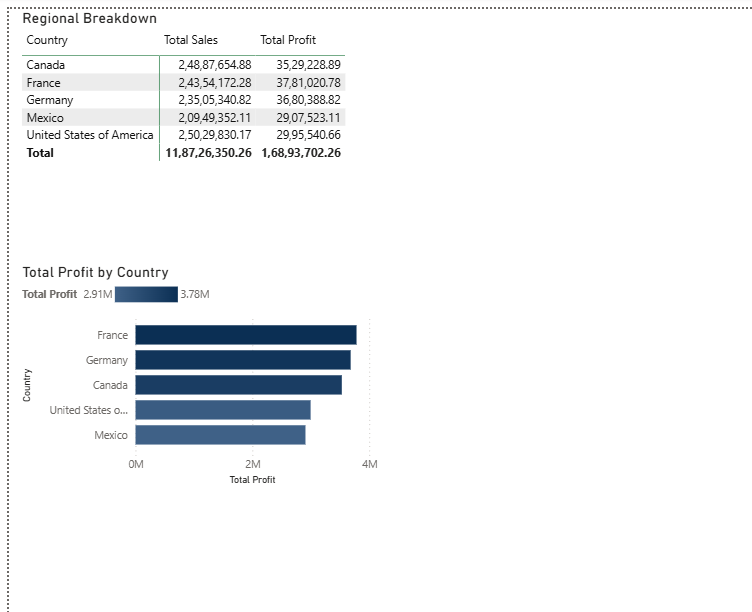

Layout of this report page (visuals, bound fields, positions):
{"tool":"powerbi","page":{"name":"Regional Breakdown","canvas":[1280,720],"ordinal":1},"visuals":[{"type":"pivotTable","title":"Regional Breakdown","fields":{"Rows":["financials.Country"],"Values":["financials.Total Sales","financials.Total Profit"]},"box":[9.6,0,415.8,279.9],"z":0},{"type":"clusteredBarChart","fields":{"Category":["financials.Country"],"Y":["financials.Total Profit"]},"box":[10,290,416,259],"z":1001}]}

Visuals, with their boxes on the page's 1280x720 design canvas (x1, y1, x2, y2). These are canvas units, not pixel positions in the 752x612 screenshot, which may show the page scaled, cropped or inside an application window:
"Regional Breakdown" pivotTable: bbox(10, 0, 425, 280)
clusteredBarChart - financials.Country x financials.Total Profit: bbox(10, 290, 426, 549)
